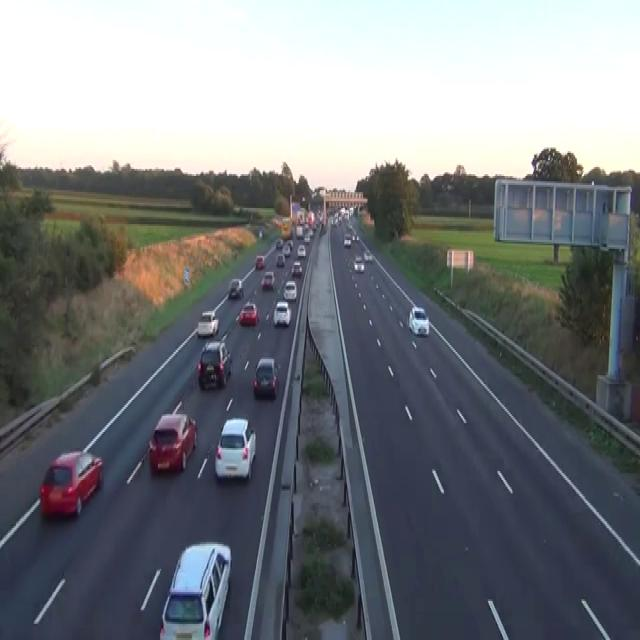Car: (159, 540, 231, 638), (39, 450, 103, 519), (148, 412, 197, 473), (214, 418, 256, 480), (197, 340, 232, 390), (252, 356, 279, 396), (196, 309, 219, 338), (408, 306, 429, 336), (238, 300, 258, 326), (273, 300, 291, 326), (228, 277, 243, 299), (283, 279, 297, 301), (260, 270, 275, 290), (353, 254, 364, 272), (291, 260, 302, 278), (255, 254, 265, 268), (296, 244, 306, 258), (363, 249, 373, 263), (276, 252, 285, 266), (343, 233, 351, 247), (296, 224, 303, 238), (282, 244, 290, 256), (319, 222, 326, 235), (275, 238, 283, 249), (274, 217, 282, 227), (352, 231, 359, 242), (287, 240, 293, 251), (332, 215, 338, 226), (233, 204, 240, 213), (347, 222, 353, 231), (304, 233, 310, 242), (303, 224, 308, 233), (309, 228, 314, 236), (355, 233, 359, 242), (258, 230, 262, 238)
